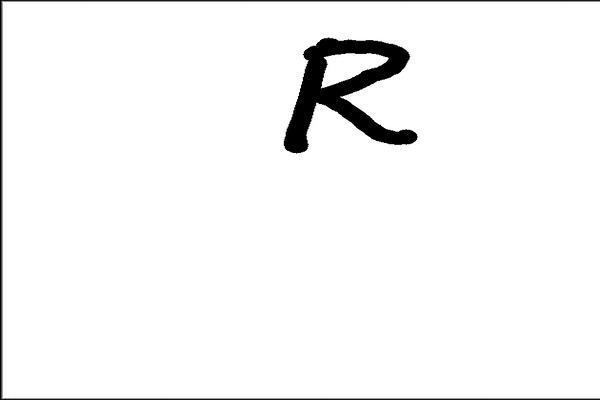R: (270, 32, 427, 158)
